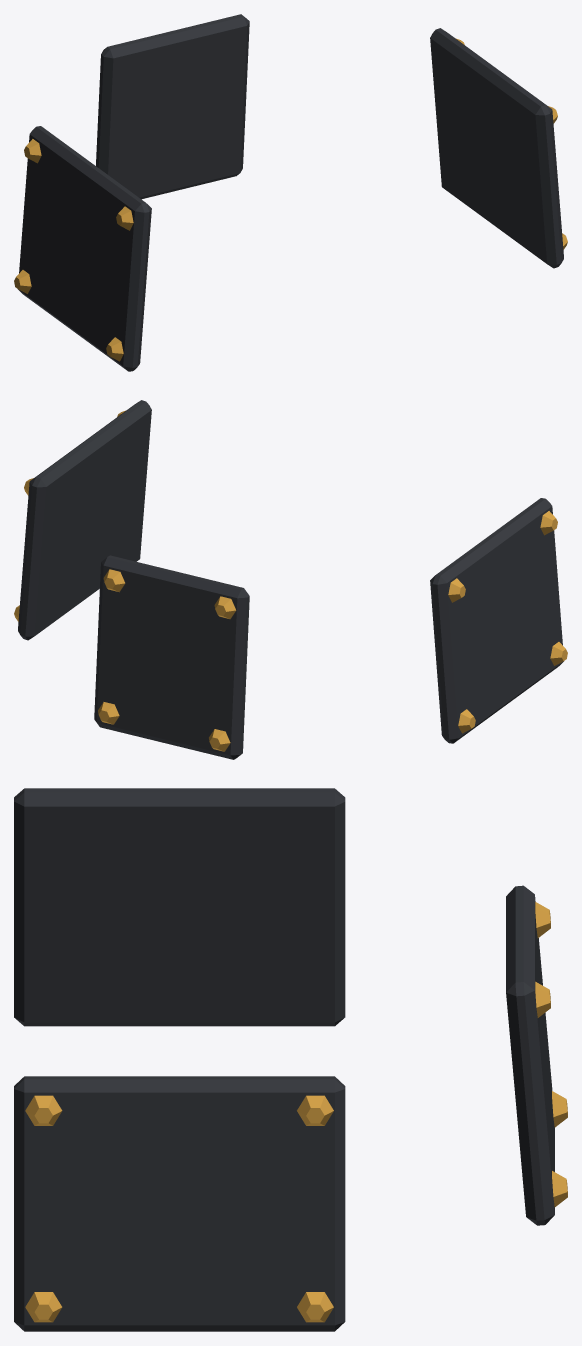
File: SniperKit5.obj
3 renders of one model, top to bottom at view 1: azimuth 30°, elevation 25°; view 2: azimuth 150°, elevation 25°; view 3: azimuth 270°, elevation 25°, orthographic. The views are drawn at different scales.
Visible parts, largest first — view 1: SniperKit5; view 2: SniperKit5; view 3: SniperKit5.
Boxes of the visible parts, <box> form: SniperKit5: <box>14,14,567,371</box>; SniperKit5: <box>14,400,567,759</box>; SniperKit5: <box>14,788,567,1331</box>.
Size of the model in its own units: 0.7503 by 0.2598 by 0.5352.
